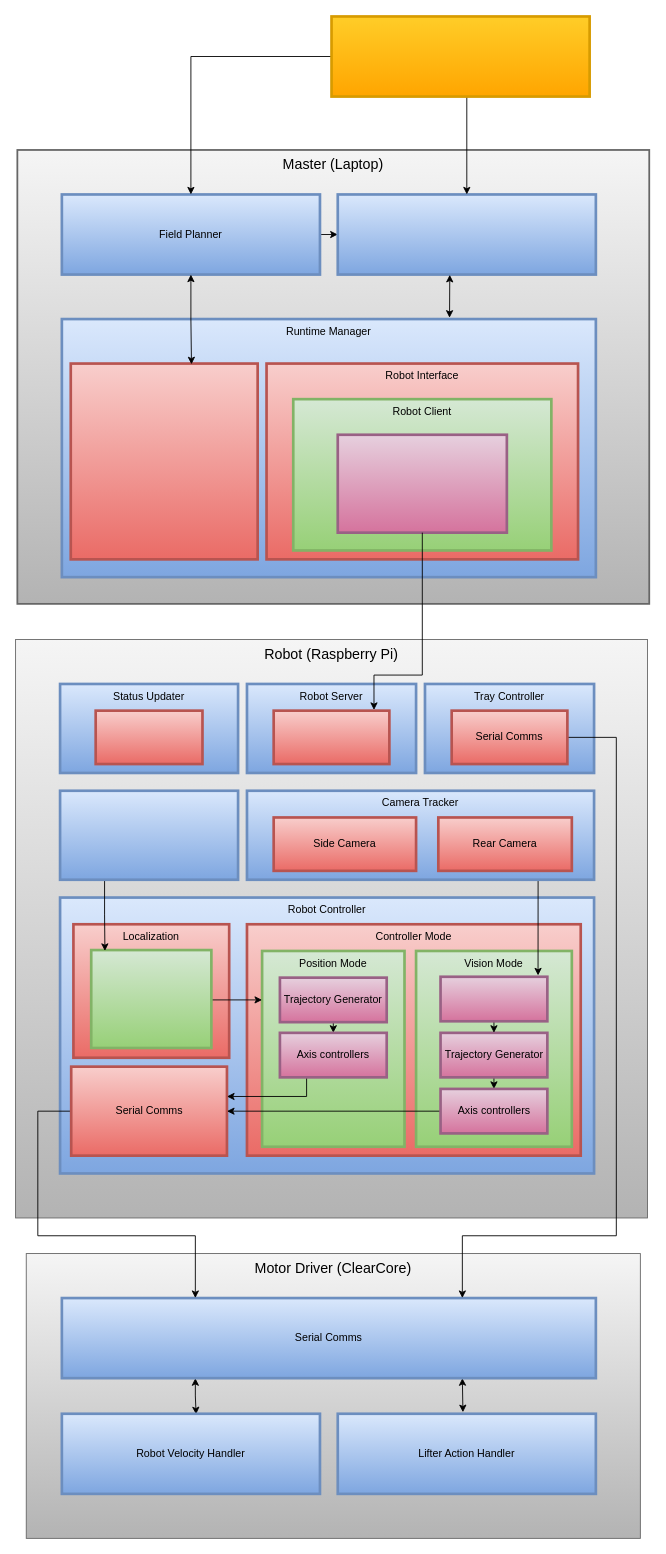
Some shapes in this 666 by 1554 pixel diagram are drawn without their labels. Here are the shapes that lost their labels. From the top down, the centre of each, then its label:
At pixel 460 56: "User".
At pixel 466 234: "GUI".
At pixel 164 461: "Plan".
At pixel 422 483: "TCP Client".
At pixel 148 737: "Status".
At pixel 331 737: "Socket Multi Thread Wrapper".
At pixel 148 835: "Marvelmind Wrapper".
At pixel 150 998: "Kalman Filter (Global Pose)".
At pixel 493 998: "Kalman Filter (Vision Pose)".
